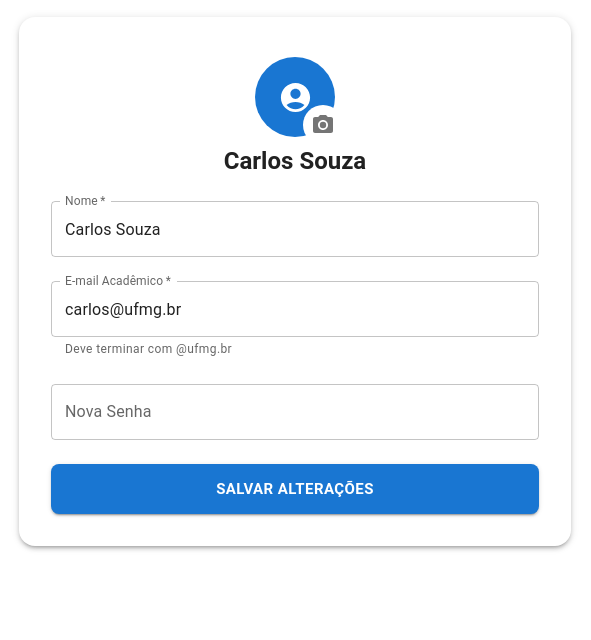
Test case: Perfil — tratamento de erros › exibe mensagem genérica quando não há detalhe de erro
Click the button "Salvar Alterações": (295, 489) [51, 464, 539, 514]
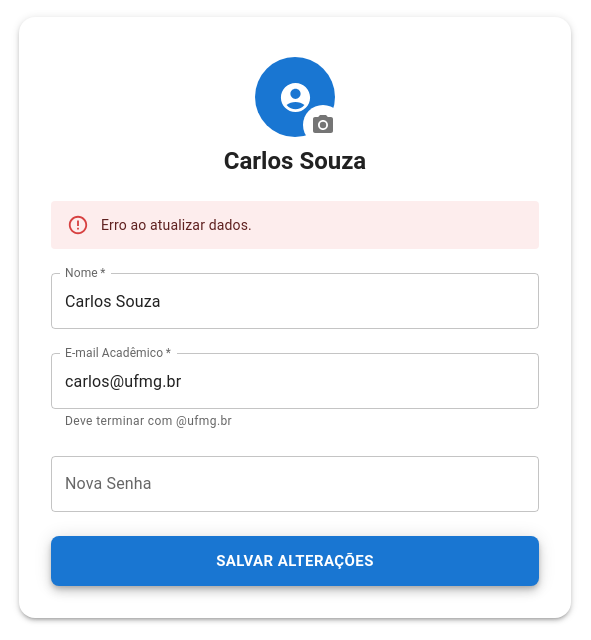
Check: the message "Erro ao atualizar dados." is shown, box [51, 201, 539, 249]
Check: the text "Erro ao atualizar dados." is shown, box [101, 217, 252, 233]
